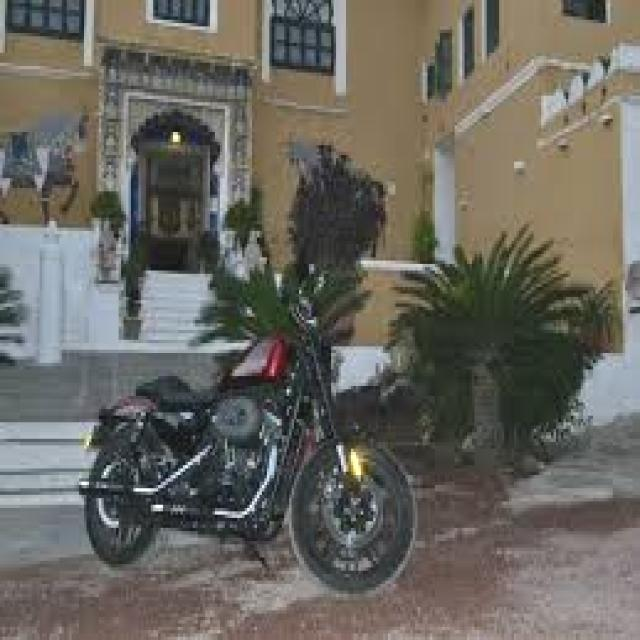MOTORCYCLE: (80, 328, 414, 591)
